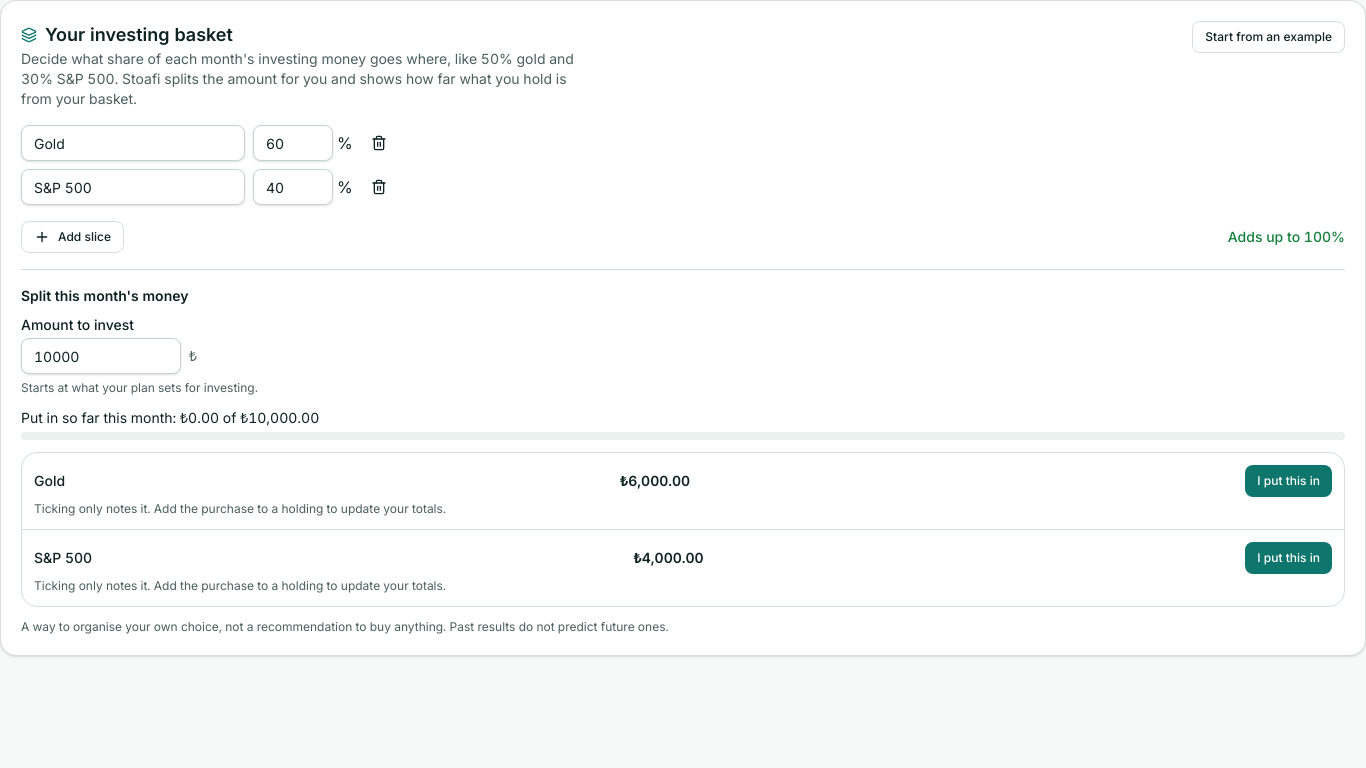
Test: BasketPanel ticking › takes a tick back
Click the button with aria-label "Mark Gold as invested": {"x": 1289, "y": 481} [1245,465,1332,497]
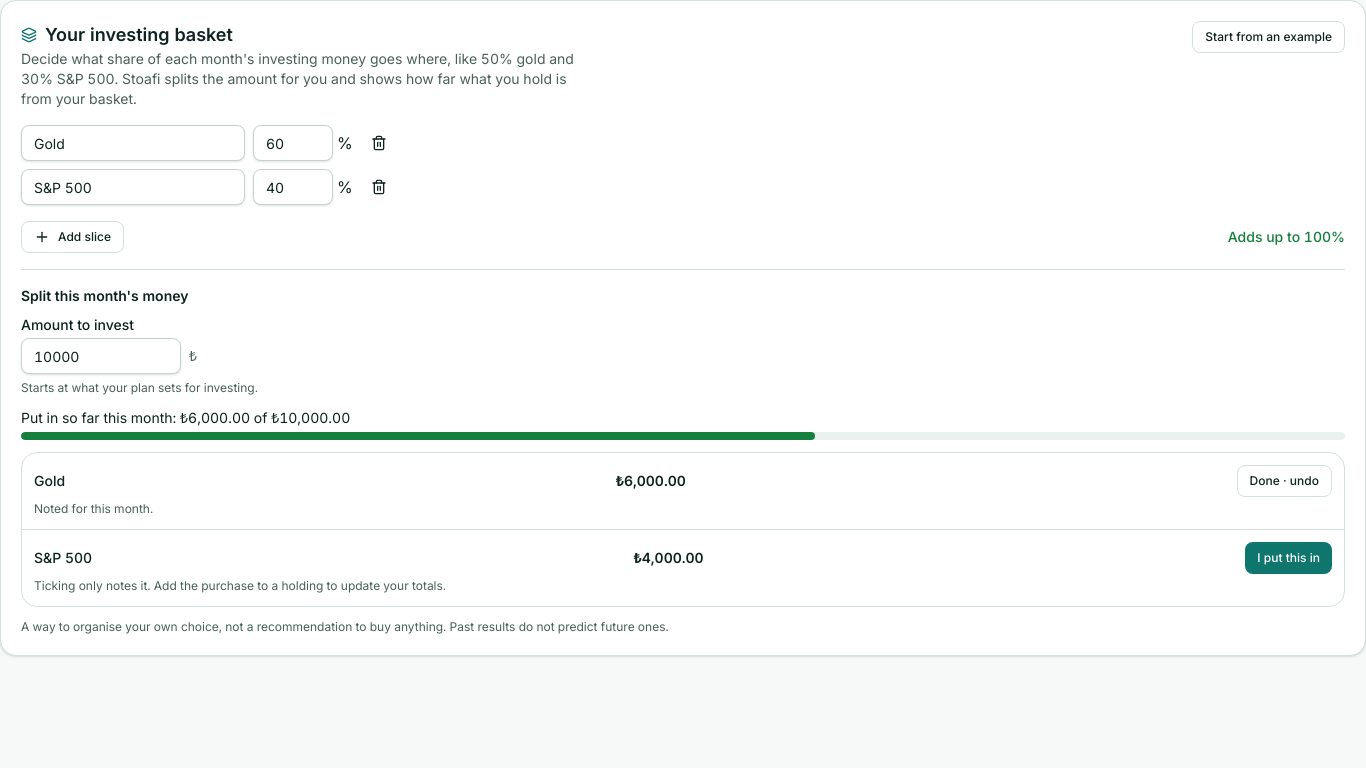
Click the button with aria-label "Undo Gold": {"x": 1284, "y": 481} [1237,465,1332,497]
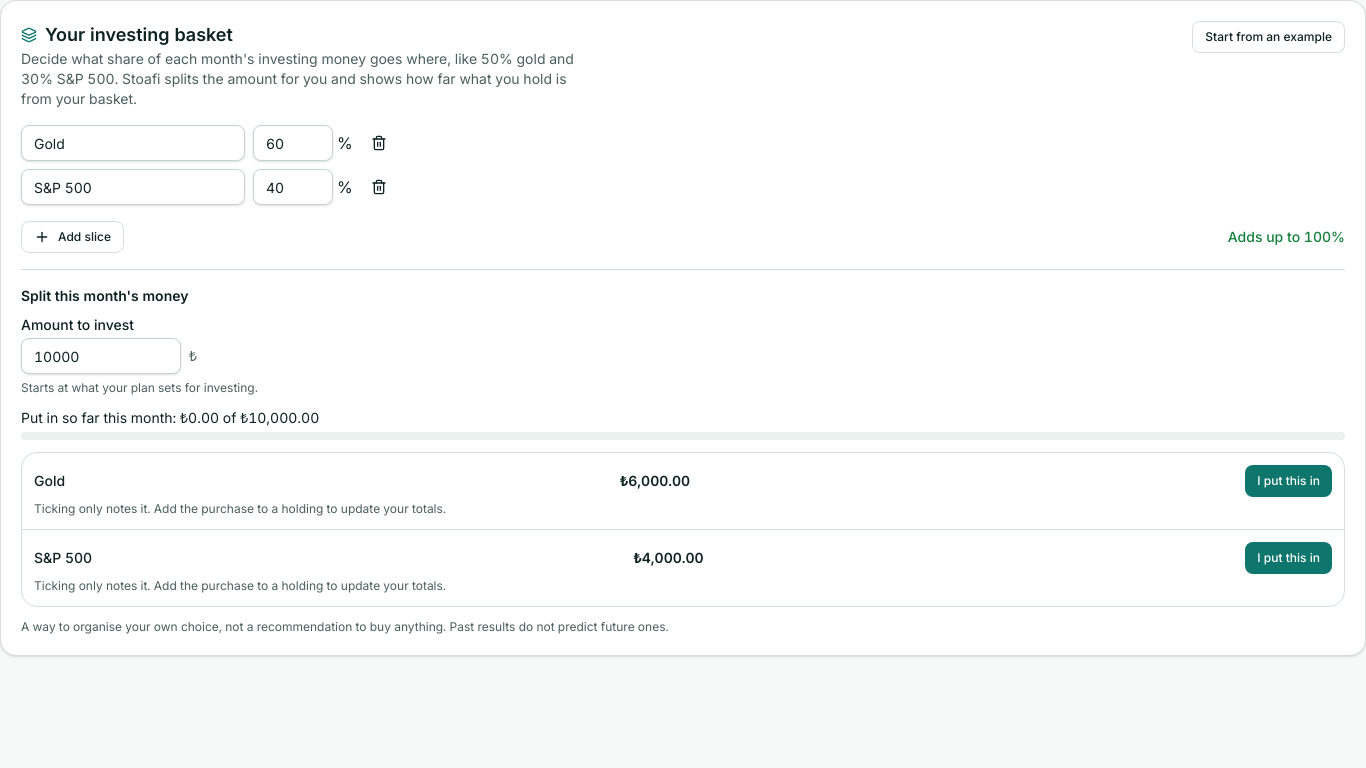
Result: the element with test id "basket-progress" shows "₺0.00 of ₺10,000.00" at [21,409,319,426]
